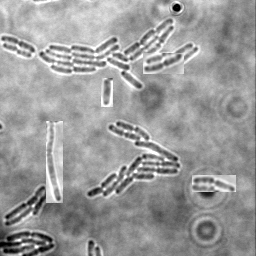Dividing: (46, 121, 63, 203), (143, 53, 184, 74), (192, 175, 236, 192), (1, 34, 37, 52), (3, 41, 33, 57), (101, 78, 113, 107)
Microcolony: (40, 18, 199, 89), (87, 120, 181, 197), (5, 184, 52, 226), (1, 230, 56, 255)
